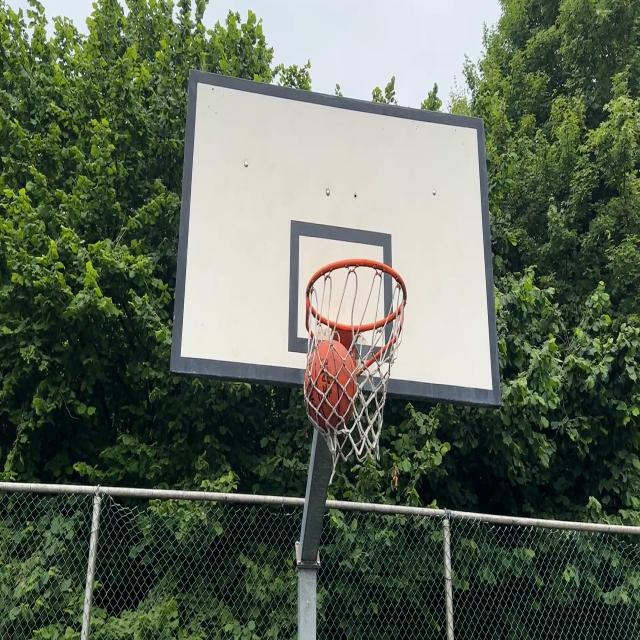Goal: (305, 340, 357, 429)
